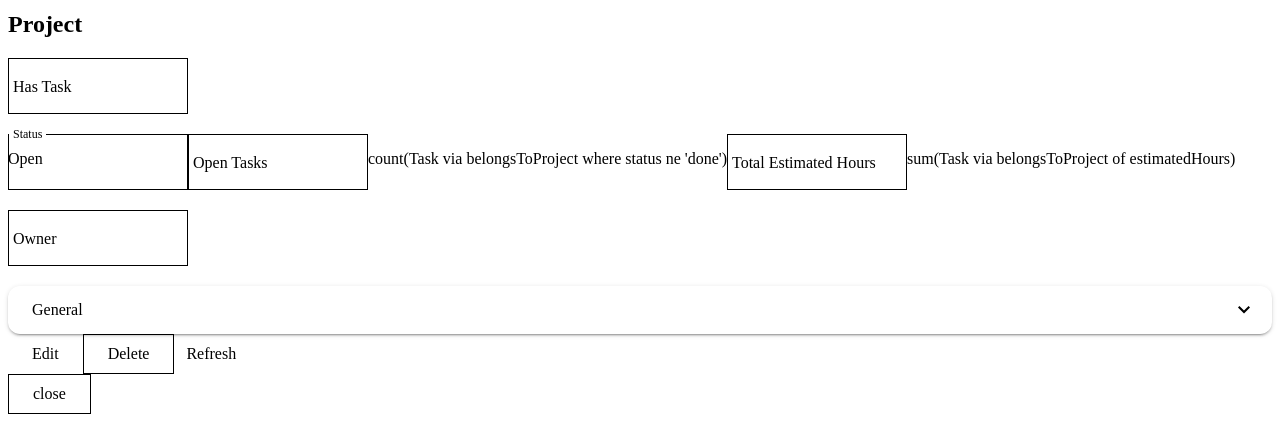
Test: SqObjectDetail › Edit enables the editable controls and keeps read-only controls disabled
Click the button "Edit" at (45, 354), box [8, 334, 83, 374]
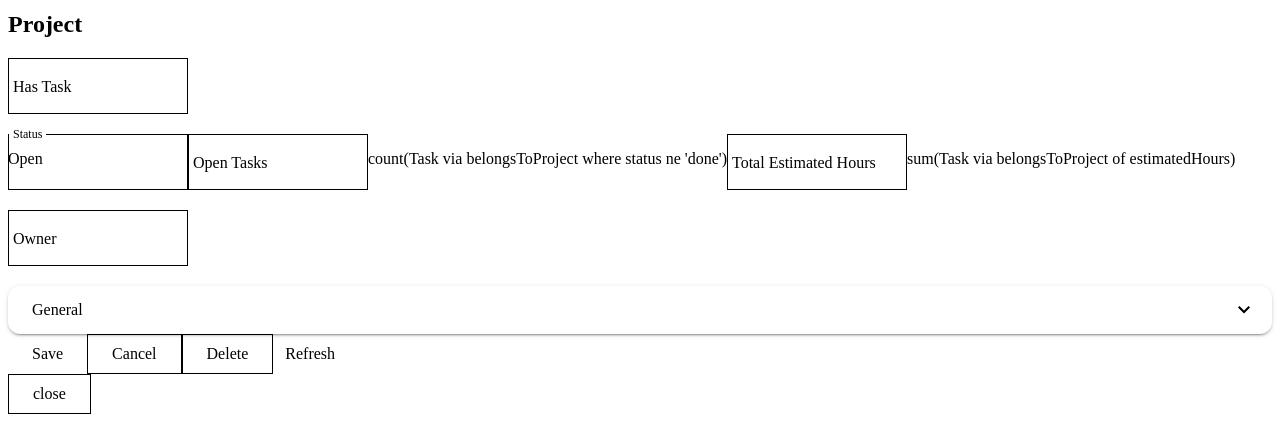
Check: the button "Save" is shown, box [8, 334, 87, 374]
Check: the button "Cancel" is shown, box [87, 334, 182, 374]
